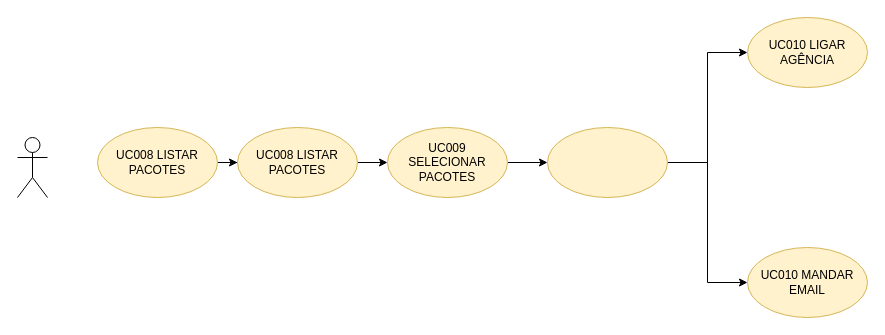
This 885x335 diagram has some shape labels left out. Each missing label, with the centre of its shape:
Actor: the point at 32,167
UC012 DETALHES PACOTES: the point at 607,162
